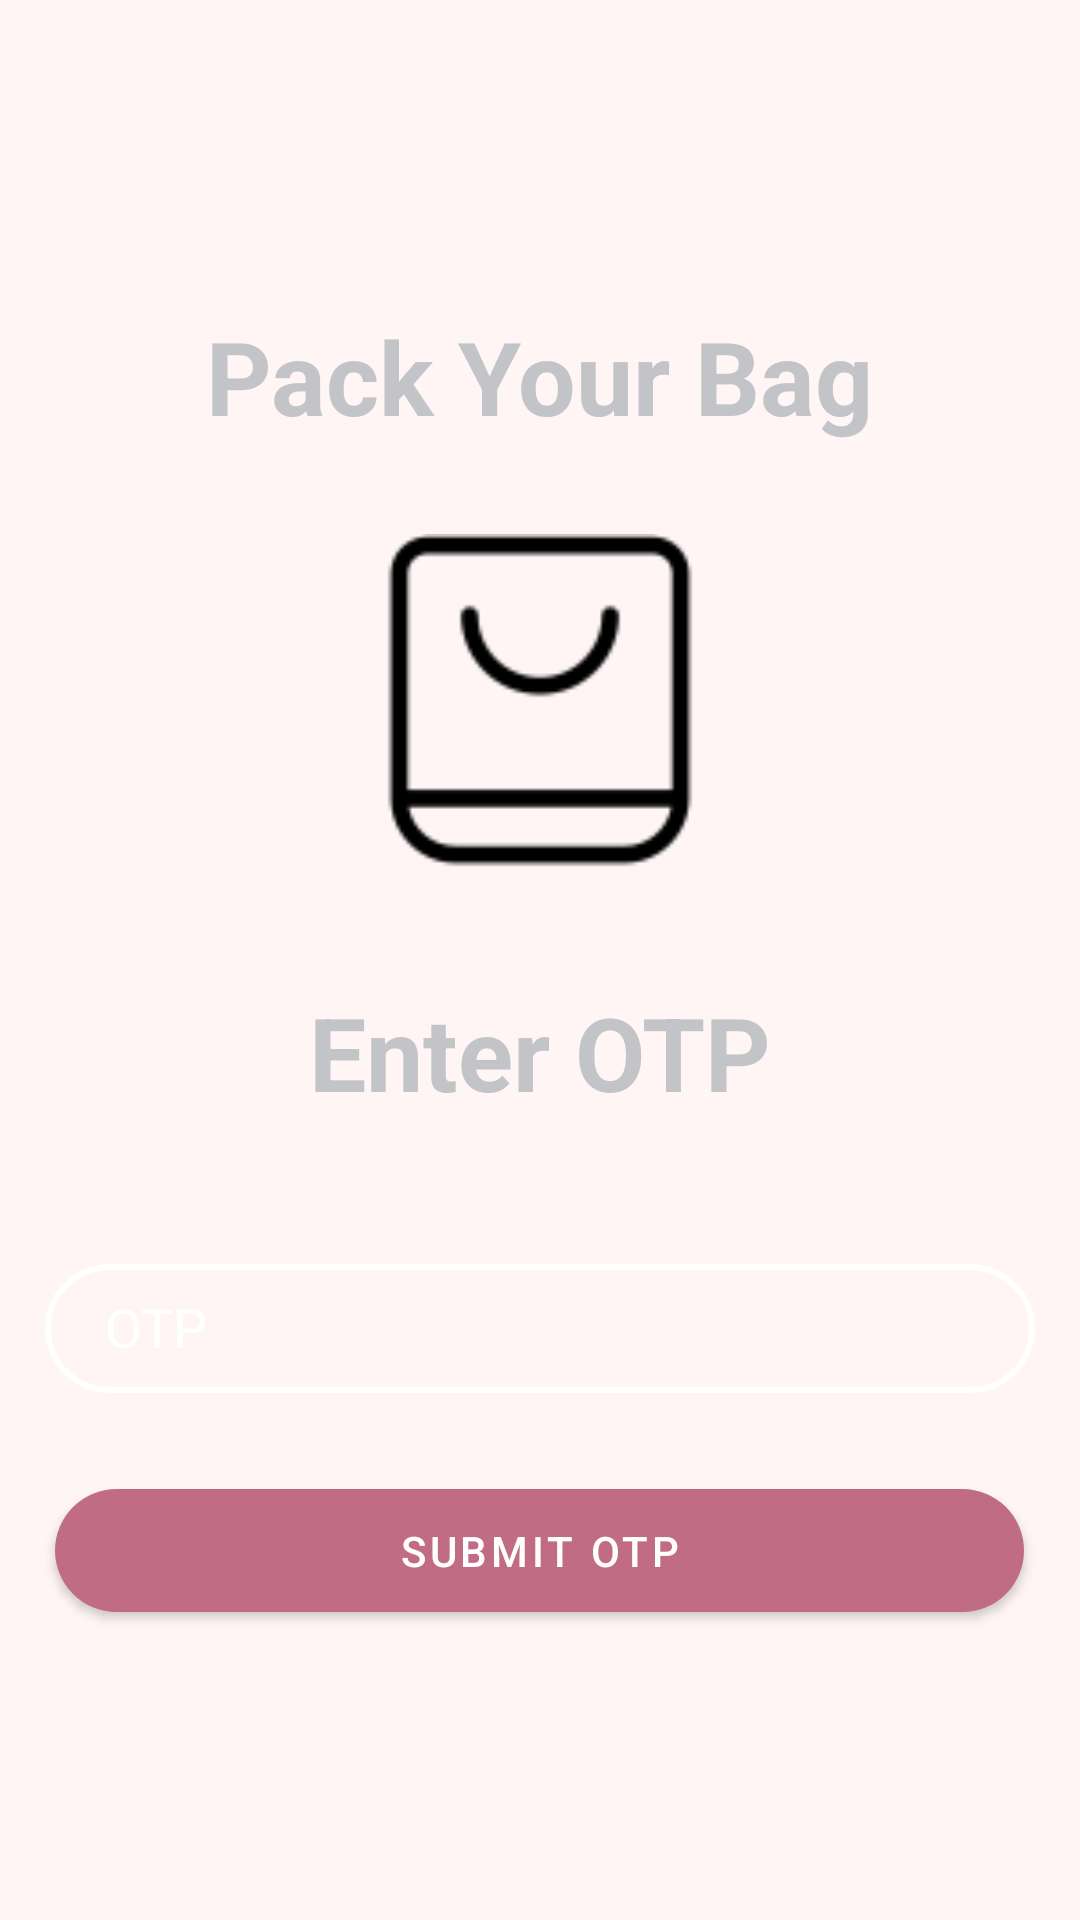

Named icons in this screenshot (1080w x 1920h) and their bounding boxes, (x1, y1, x2, y2):
shopping bag: (388, 534, 692, 866)
